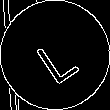L_NW: (28, 25, 82, 85)
